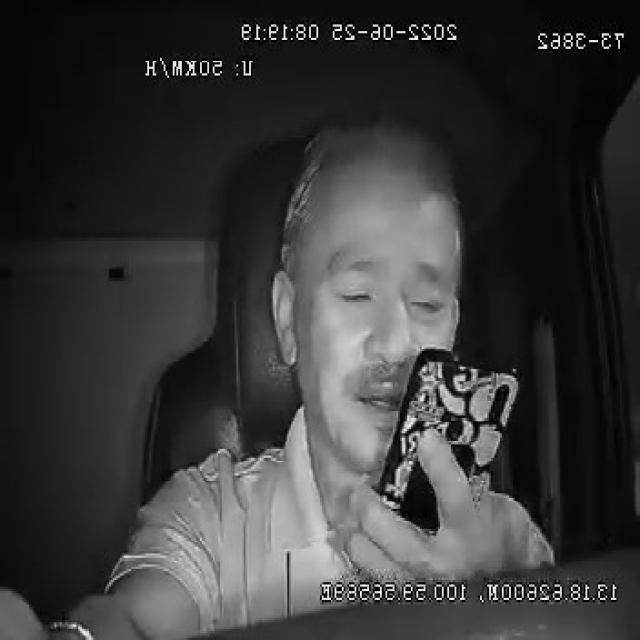phone: (375, 345, 522, 533)
